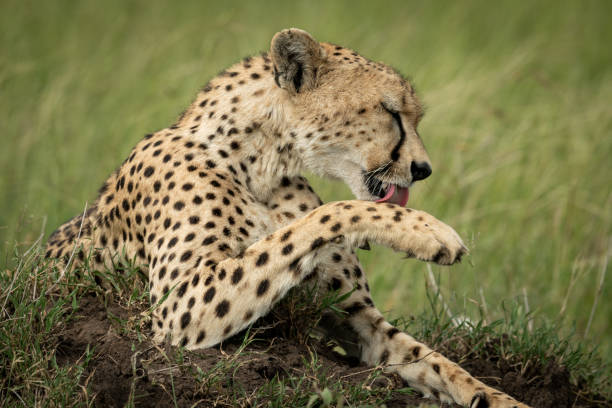cheetah: (234, 22, 455, 202)
